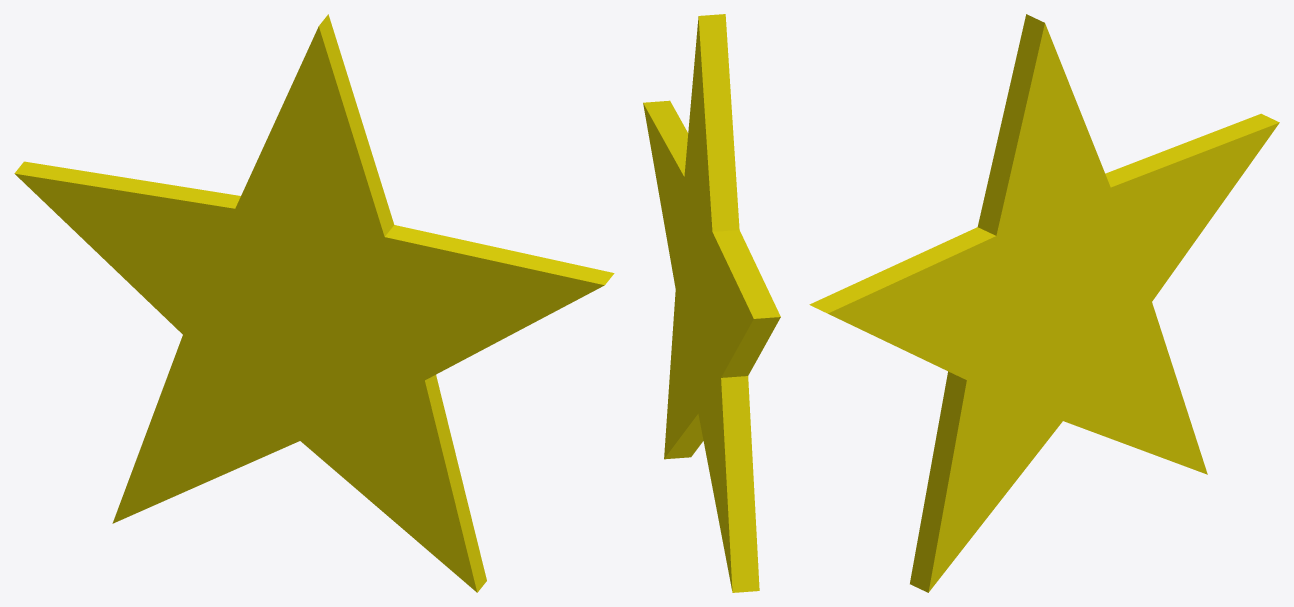
File: star.glb
3 renders of one model, left to right at view 1: azimuth 30°, elevation 25°; view 2: azimuth 150°, elevation 25°; view 3: azimuth 270°, elevation 25°, orthographic. The views are drawn at different scales.
Parts seen in each view (by area): view 1: Circle; view 2: Circle; view 3: Circle.
Boxes of the visible parts, bbox=[...] form: Circle: bbox=[14, 14, 614, 592]; Circle: bbox=[643, 14, 780, 592]; Circle: bbox=[809, 14, 1279, 592].
Size of the model in its own units: 1.32 by 1.83 by 1.49.
